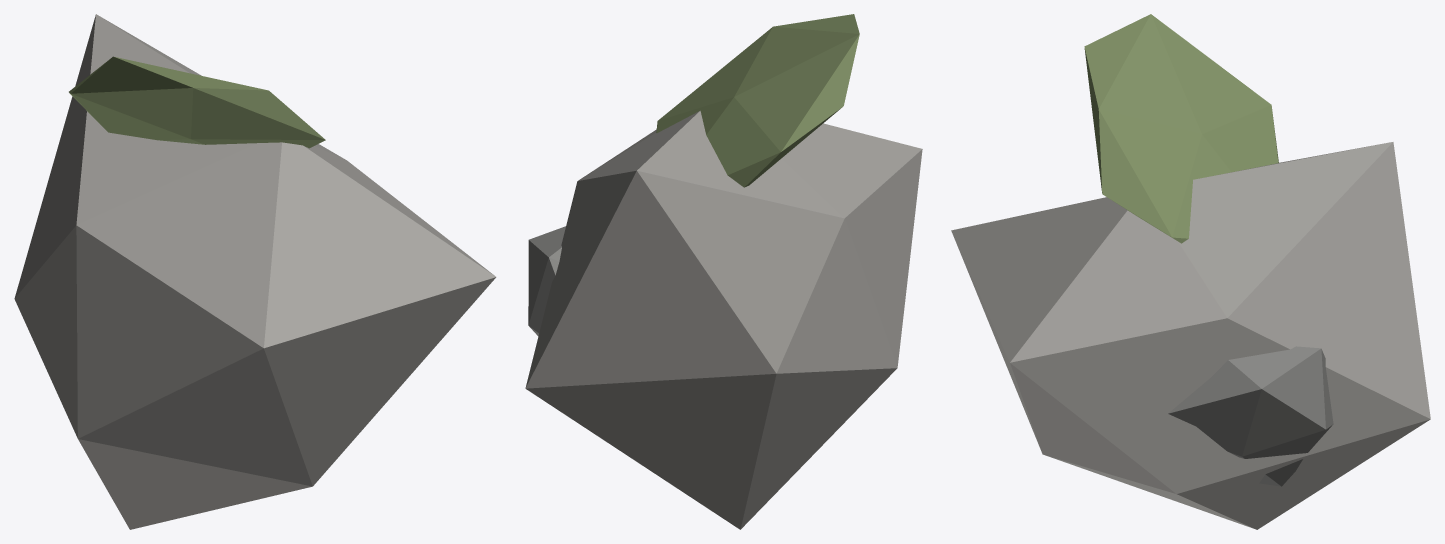
The model's file is v_rock_b.glb.
The picture shows the model from 3 angles, left to right: view 1: azimuth 30°, elevation 25°; view 2: azimuth 150°, elevation 25°; view 3: azimuth 270°, elevation 25°; orthographic projection. The views are drawn at different scales.
Parts seen in each view (by area): view 1: Rock; view 2: Rock; view 3: Rock.
Part boxes in pixels (x1,y1,x2,y2): Rock: (14, 14, 496, 529); Rock: (525, 14, 922, 529); Rock: (951, 14, 1430, 529).
Size of what is drawn, in the model's own units: 1.25 by 1.82 by 1.64.
